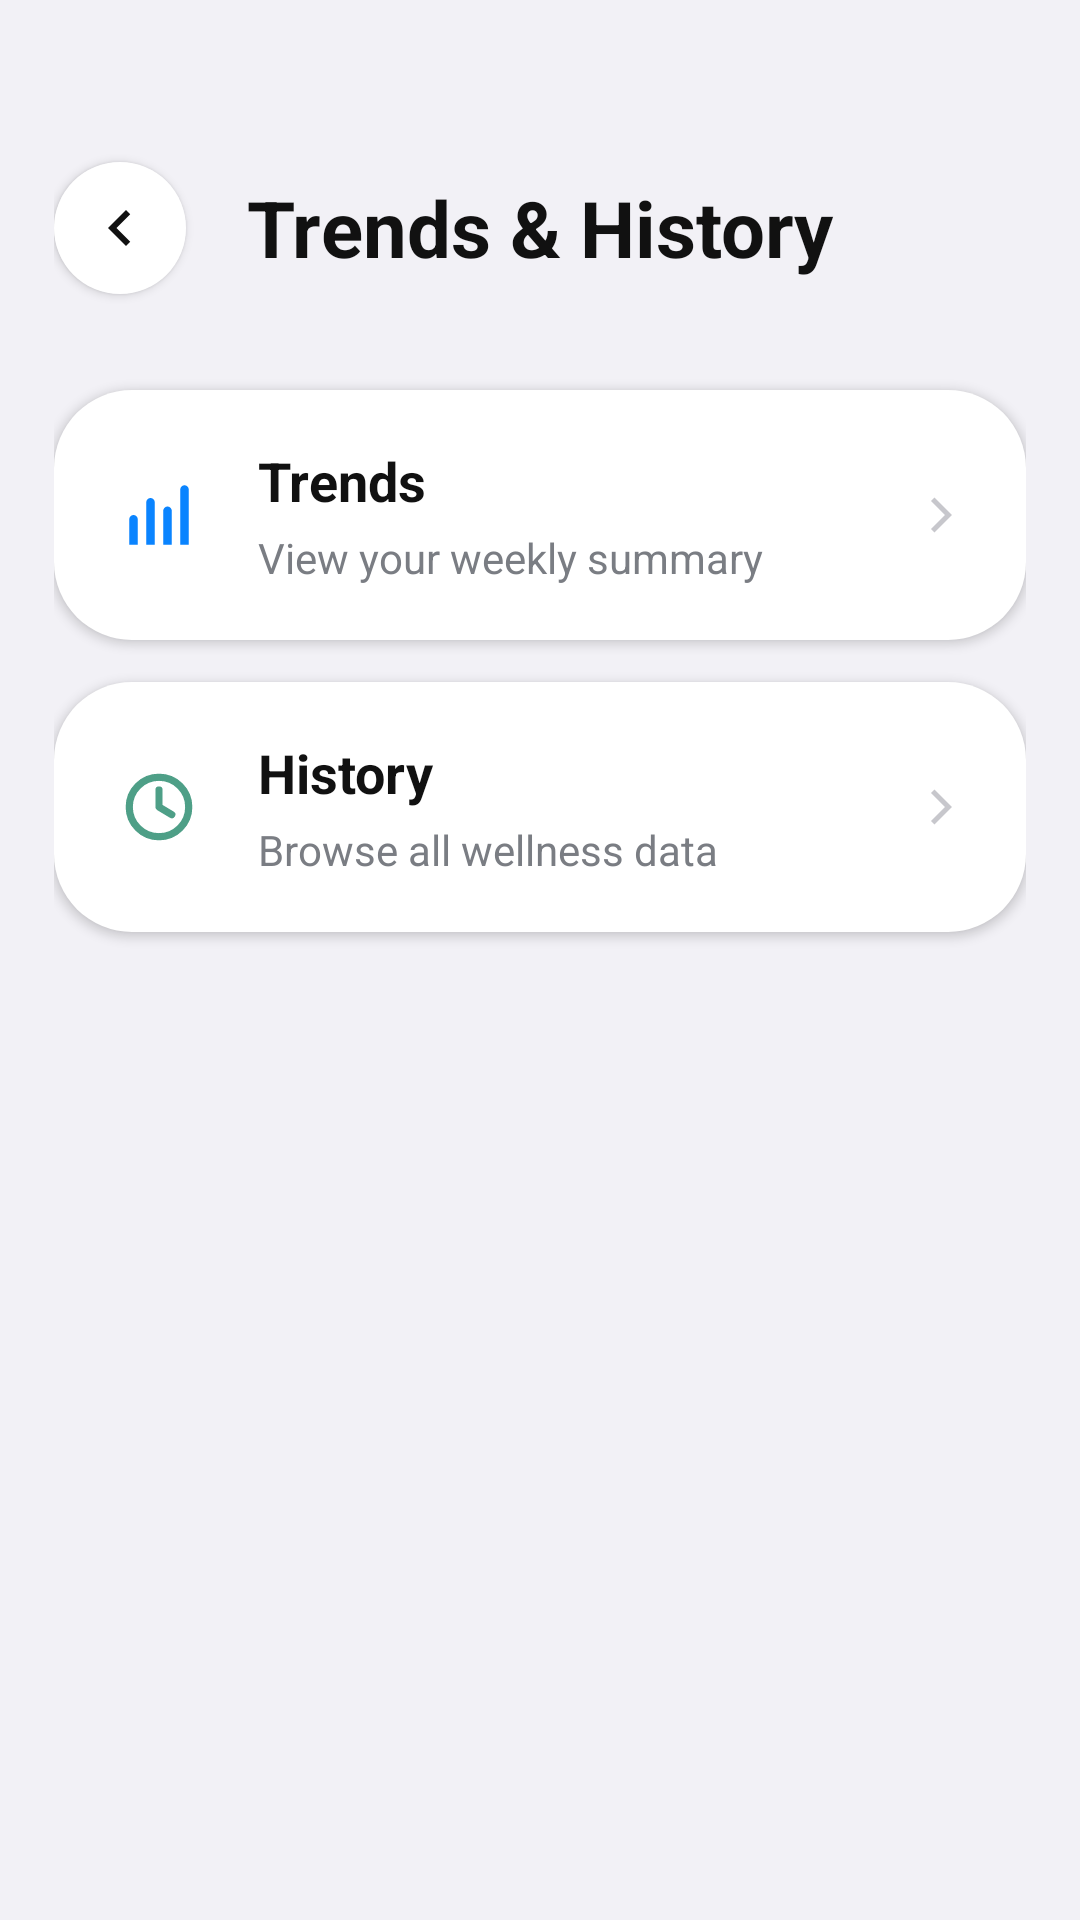

Where icons sit on this 1080 × 1920 app screen, as bbox=(x1, y1, x2, y2):
chevron right: bbox=(931, 498, 952, 532), bbox=(931, 790, 952, 824)
